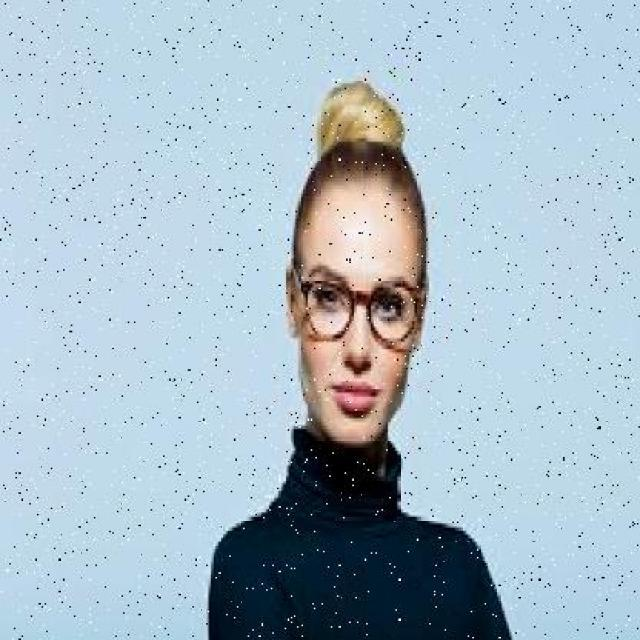mask: (286, 252, 434, 354)
